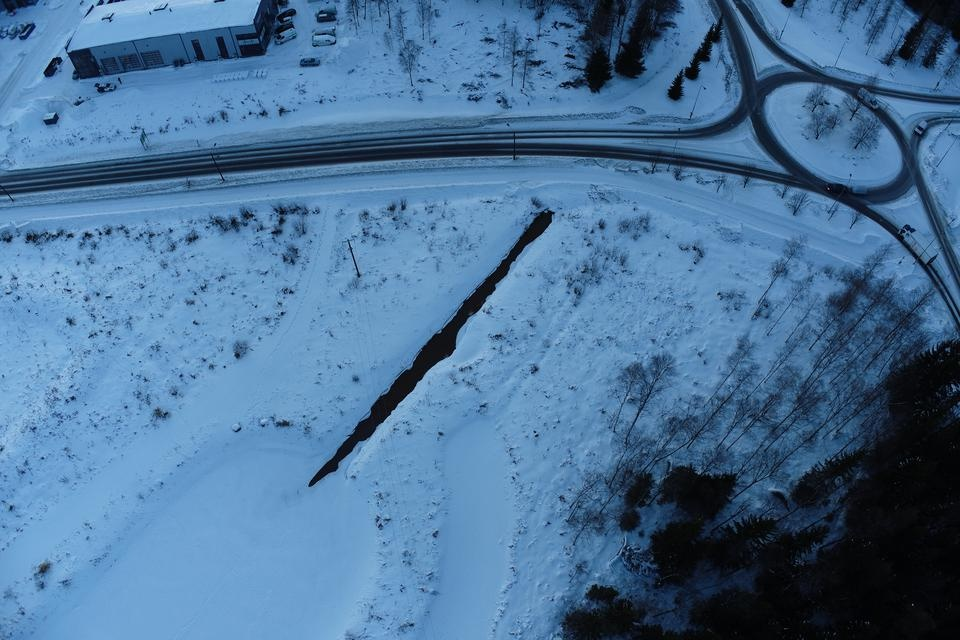roundabout: (721, 33, 944, 227)
